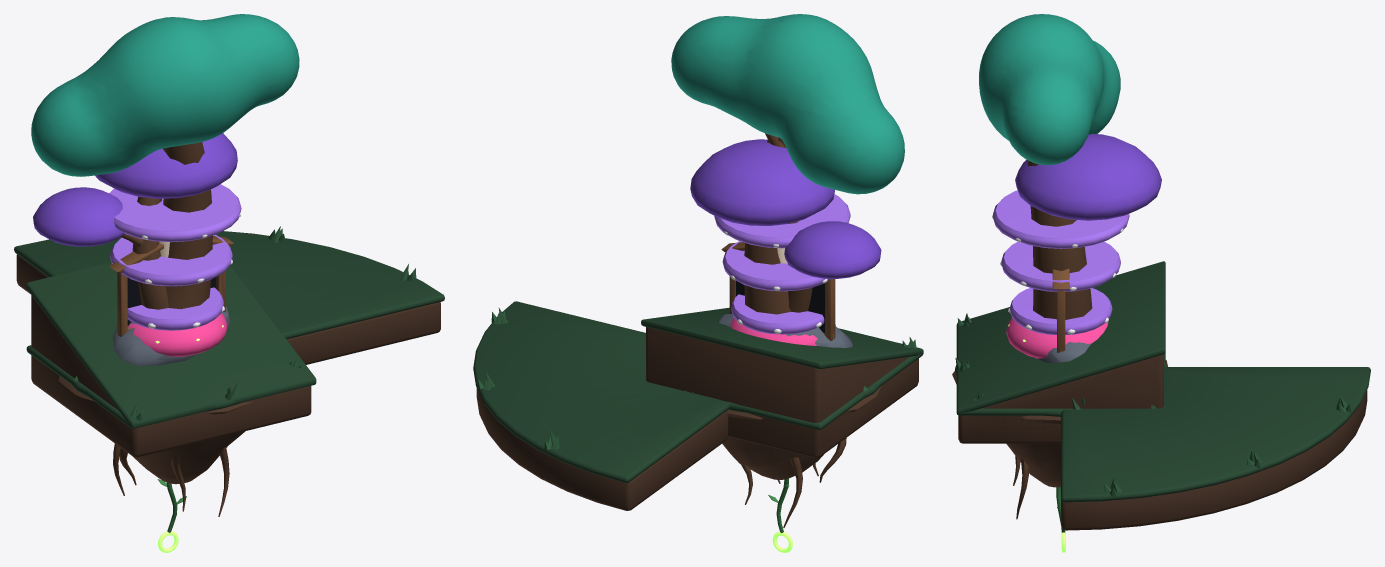
The model's file is _PaqueteJardin.fbx.
3 views of the same model, side by side, from view 1: azimuth 30°, elevation 25°; view 2: azimuth 150°, elevation 25°; view 3: azimuth 270°, elevation 25° (orthographic). The views are drawn at different scales.
Visible parts, largest first — view 1: ArbolMutanteA_Copas, SueloRampa_Pasto, SueloCurva_Pasto, SueloRampa_Tierra, ArbolMutanteB_Copas, SueloCurva_Tierra, HongoPlataformaAlto_Sombrero, HongoPlataformaMediano_Sombrero, ArbolMutanteA_Tronco, SueloIsla_Tierra, HongoRebote_Sombrero_Anim, HongoPlataformaChico_Sombrero (+5 smaller); view 2: SueloCurva_Pasto, ArbolMutanteA_Copas, SueloRampa_Tierra, ArbolMutanteB_Copas, SueloCurva_Tierra, SueloRampa_Pasto, SueloIsla_Tierra, HongoPlataformaMediano_Sombrero, HongoPlataformaAlto_Sombrero, HongoPlataformaChico_Sombrero, ArbolMutanteA_Tronco, SueloRecto_Pasto (+6 smaller); view 3: SueloCurva_Pasto, ArbolMutanteA_Copas, SueloRampa_Pasto, ArbolMutanteB_Copas, SueloCurva_Tierra, SueloRampa_Tierra, HongoPlataformaAlto_Sombrero, HongoPlataformaMediano_Sombrero, ArbolMutanteA_Tronco, HongoPlataformaChico_Sombrero, SueloIsla_Tierra, HongoRebote_Sombrero_Anim (+5 smaller).
Boxes of the visible parts, box(x1,y1,x2,y2) form: ArbolMutanteA_Copas: box(31, 14, 299, 176); SueloRampa_Pasto: box(26, 262, 316, 428); SueloCurva_Pasto: box(14, 231, 444, 339); SueloRampa_Tierra: box(31, 295, 311, 457); ArbolMutanteB_Copas: box(33, 133, 237, 246); SueloCurva_Tierra: box(16, 254, 440, 364); HongoPlataformaAlto_Sombrero: box(109, 184, 241, 242); HongoPlataformaMediano_Sombrero: box(110, 235, 232, 286); ArbolMutanteA_Tronco: box(163, 142, 212, 309); SueloIsla_Tierra: box(58, 376, 253, 484); HongoRebote_Sombrero_Anim: box(116, 313, 227, 356); HongoPlataformaChico_Sombrero: box(127, 287, 223, 330); SueloCurva_Pasto: box(473, 301, 729, 482); ArbolMutanteA_Copas: box(671, 14, 904, 194); SueloRampa_Tierra: box(646, 327, 918, 457); ArbolMutanteB_Copas: box(690, 139, 881, 278); SueloCurva_Tierra: box(476, 388, 728, 510); SueloRampa_Pasto: box(641, 307, 923, 369); SueloIsla_Tierra: box(722, 386, 881, 479); HongoPlataformaMediano_Sombrero: box(722, 241, 830, 291); HongoPlataformaAlto_Sombrero: box(714, 194, 850, 248); HongoPlataformaChico_Sombrero: box(731, 294, 824, 334); ArbolMutanteA_Tronco: box(744, 133, 790, 314); SueloRecto_Pasto: box(644, 353, 923, 429); SueloCurva_Pasto: box(1061, 367, 1370, 502); ArbolMutanteA_Copas: box(979, 14, 1120, 165); SueloRampa_Pasto: box(956, 261, 1165, 414); ArbolMutanteB_Copas: box(1015, 133, 1161, 220); SueloCurva_Tierra: box(1061, 390, 1367, 530); SueloRampa_Tierra: box(958, 354, 1163, 443); HongoPlataformaAlto_Sombrero: box(992, 190, 1129, 248); HongoPlataformaMediano_Sombrero: box(1001, 241, 1120, 291); ArbolMutanteA_Tronco: box(1027, 160, 1092, 319); HongoPlataformaChico_Sombrero: box(1010, 288, 1112, 334); SueloIsla_Tierra: box(952, 360, 1167, 487); HongoRebote_Sombrero_Anim: box(1006, 318, 1108, 358).
Bounding box in the file's own units: 26.46 × 33.98 × 24.46.
